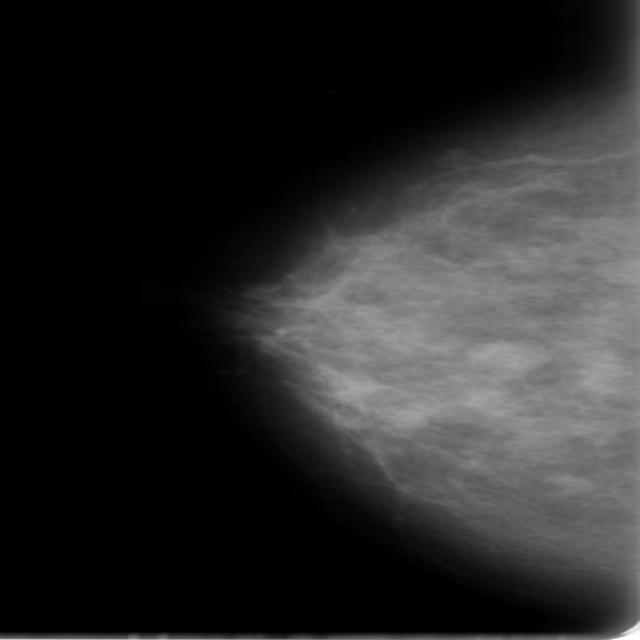tumour: (458, 340, 552, 370)
